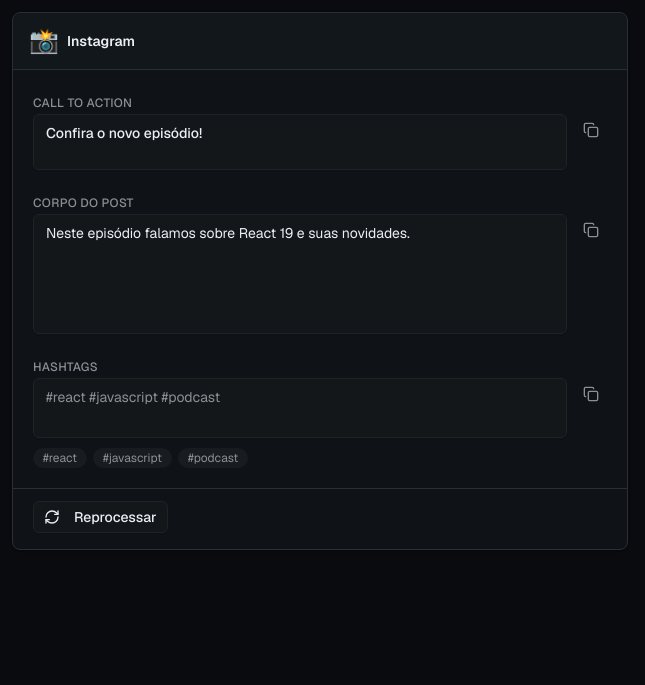
SocialPostColumn › hides reprocess form after successful reprocess
This screenshot has width=645, height=685.
Click the button "Reprocessar" at (100,517), box [33,501,168,533]
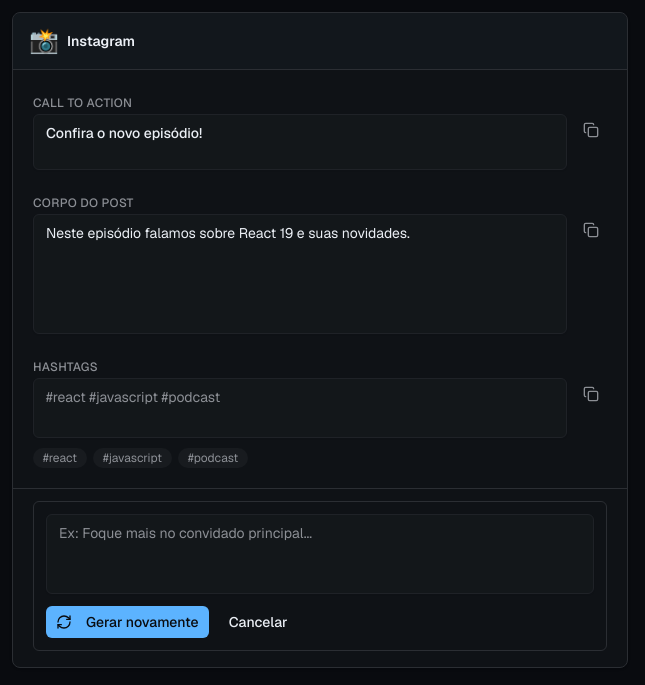
Check: the text box with placeholder "Ex: Foque mais no convidado principal..." is shown, box [46,514,594,594]
Click the button "Gerar novamente" at (127,622), box [46,606,209,638]
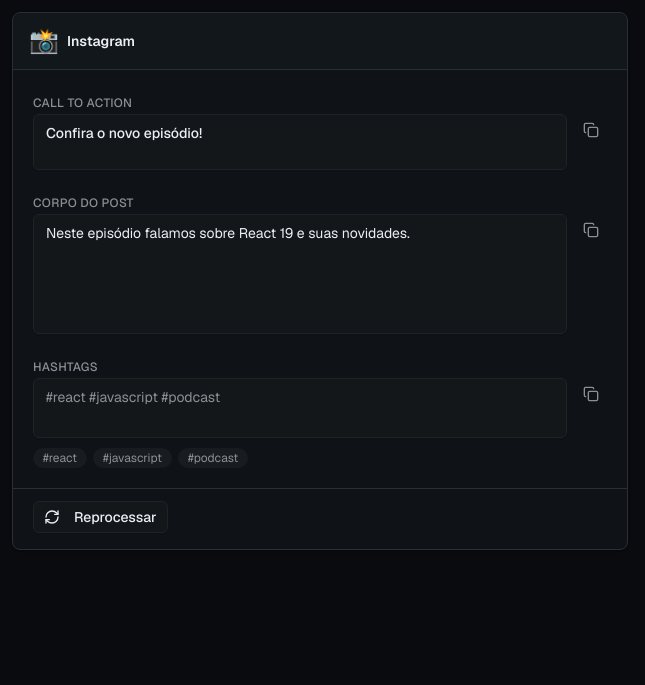
Check: the field with placeholder "Foque mais no convidado" is not shown
Check: the button "Reprocessar" is shown, box [33,501,168,533]
